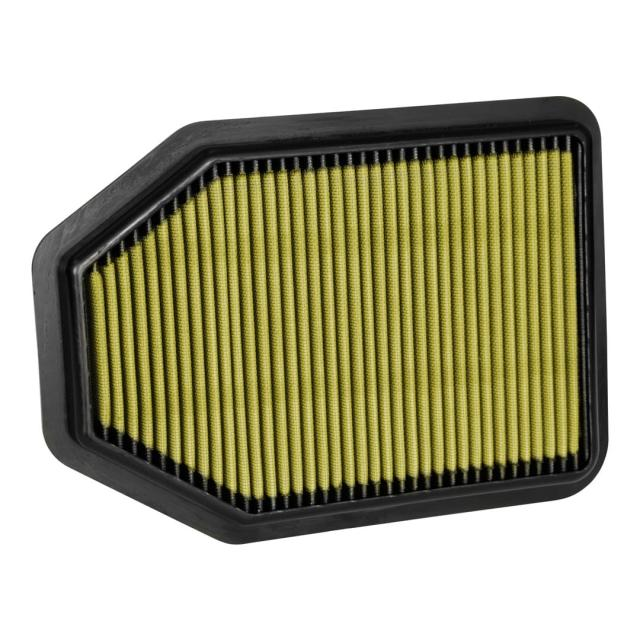air_filter: (27, 88, 604, 550)
